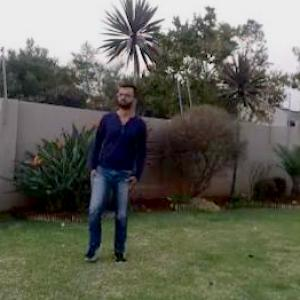follow: (80, 72, 148, 276)
